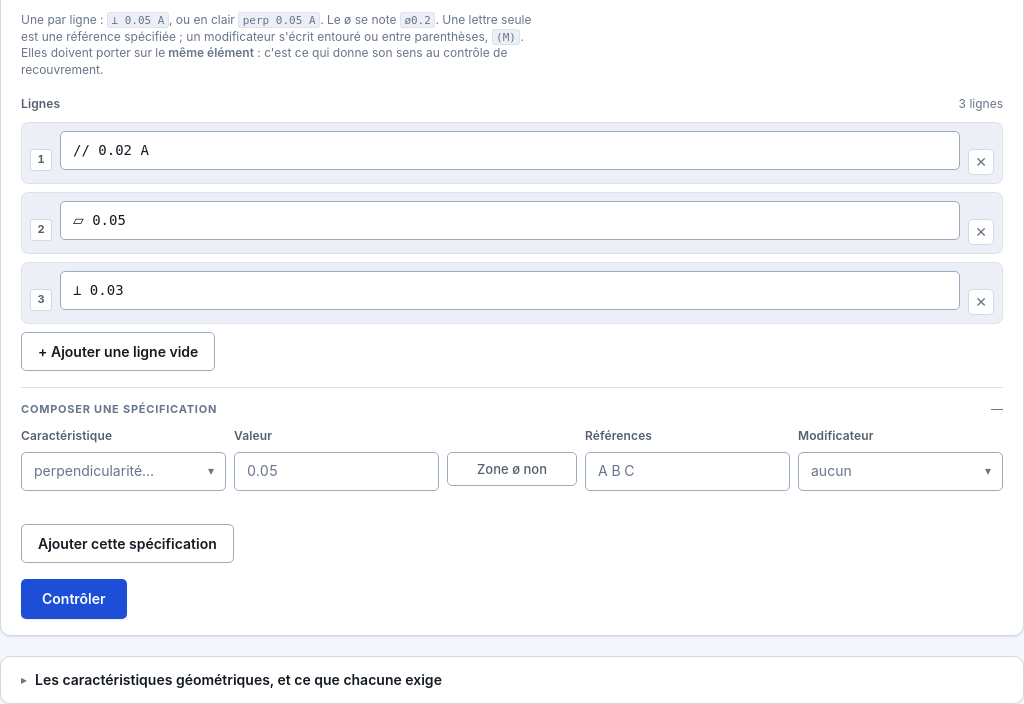
Test: écran de tolérancement géométrique › énonce les recouvrements et la règle qui les fonde
(page scrolled)
Click the 4th button named "Contrôler".
click(74, 599)  # box [21, 580, 127, 619]
(page scrolled)
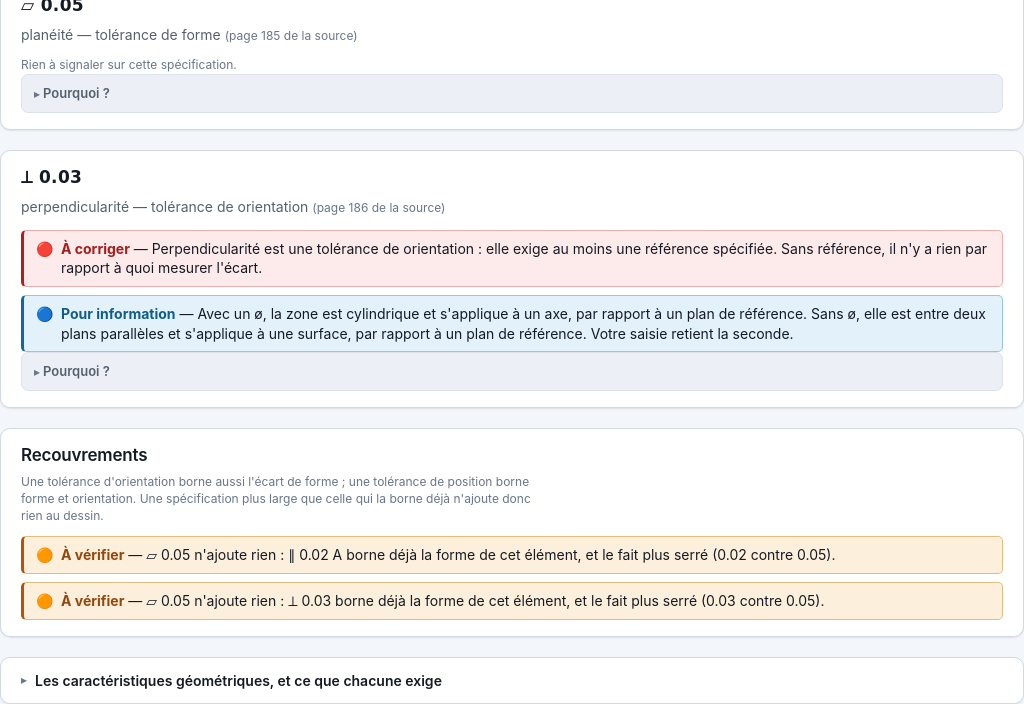
Check: the 8th text "borne aussi l'écart de forme" is shown, box [21, 474, 531, 523]
Check: the text "n'ajoute rien" is shown 2 times, box [61, 545, 836, 565]; [61, 591, 824, 611]
